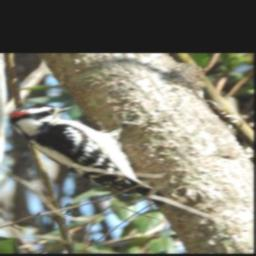Woodpecker: (9, 104, 154, 197)
